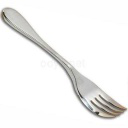fork: (1, 4, 128, 123)
